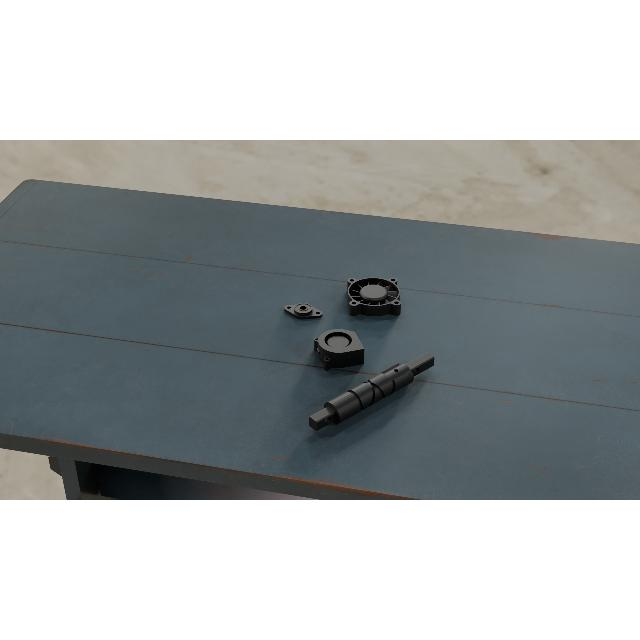Pieza1: (305, 344, 439, 440)
Pieza2: (280, 298, 326, 322)
Pieza3: (312, 326, 364, 372)
Pieza4: (346, 277, 402, 317)
